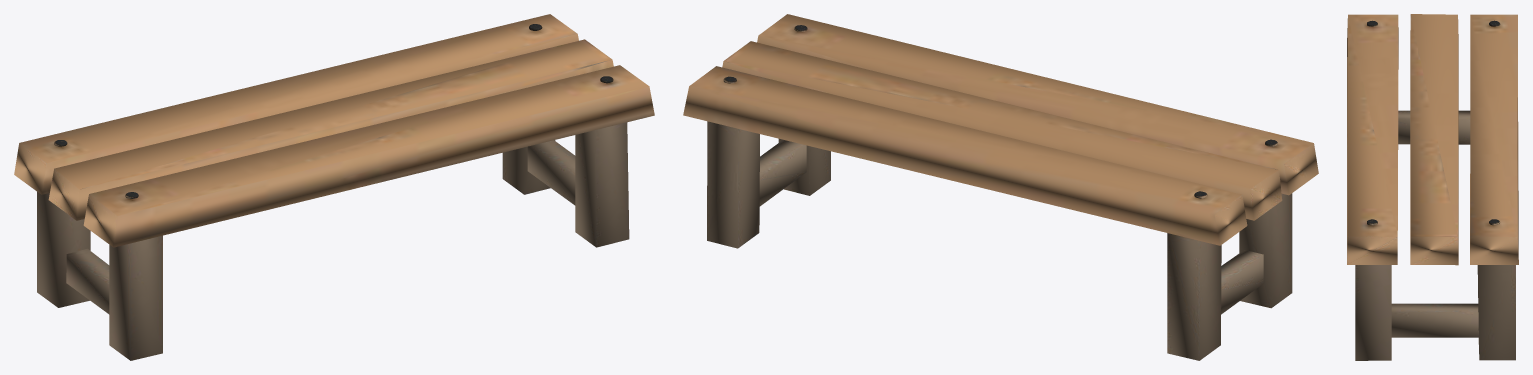
Rendered from bench.glb.
The picture shows the model from 3 angles, left to right: view 1: azimuth 30°, elevation 25°; view 2: azimuth 150°, elevation 25°; view 3: azimuth 270°, elevation 25°; orthographic projection. The views are drawn at different scales.
Size of the model in its own units: 0.9551 by 0.2651 by 0.3062.
Materials: 1 (1 with a texture image).
